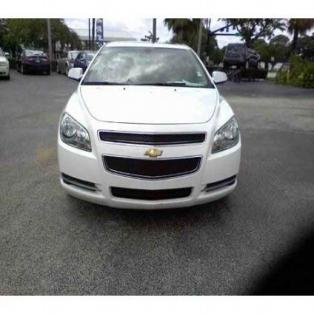Auto: (55, 40, 241, 214)
